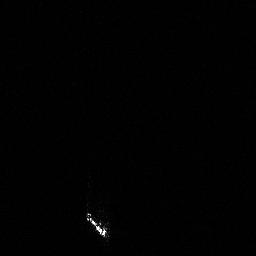ship: (83, 209, 110, 240)
